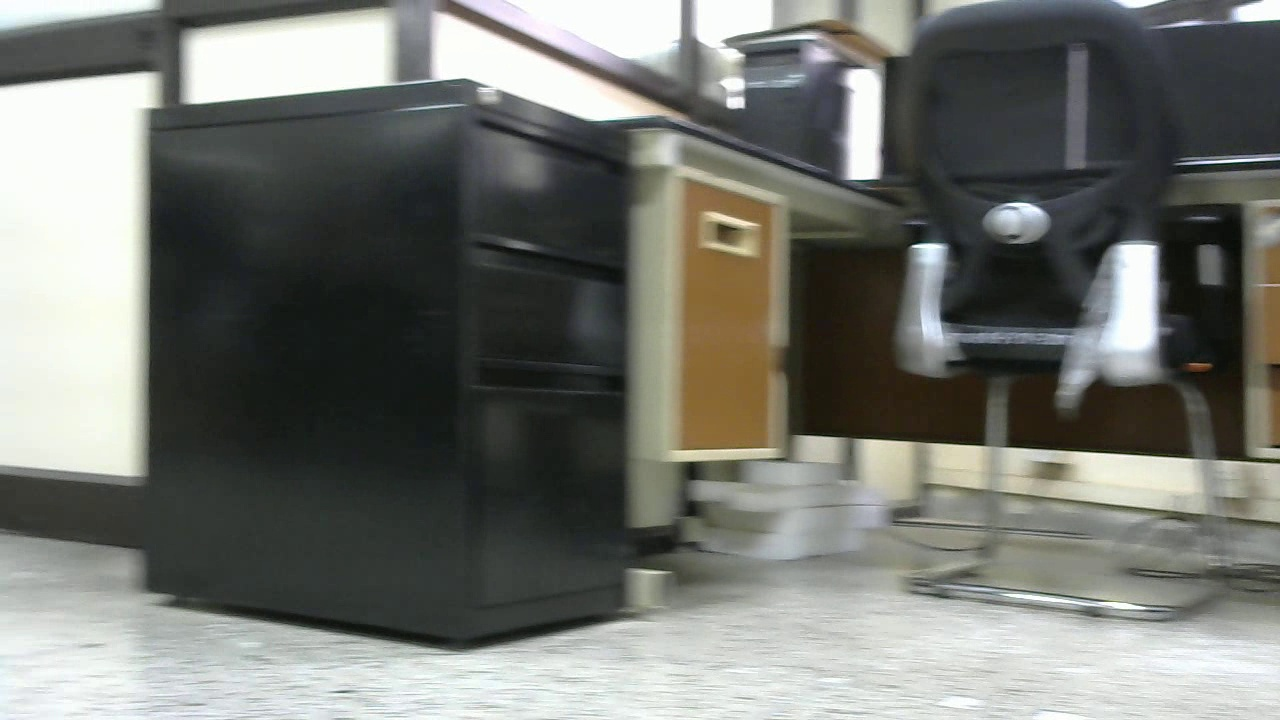chair: (872, 1, 1245, 620)
